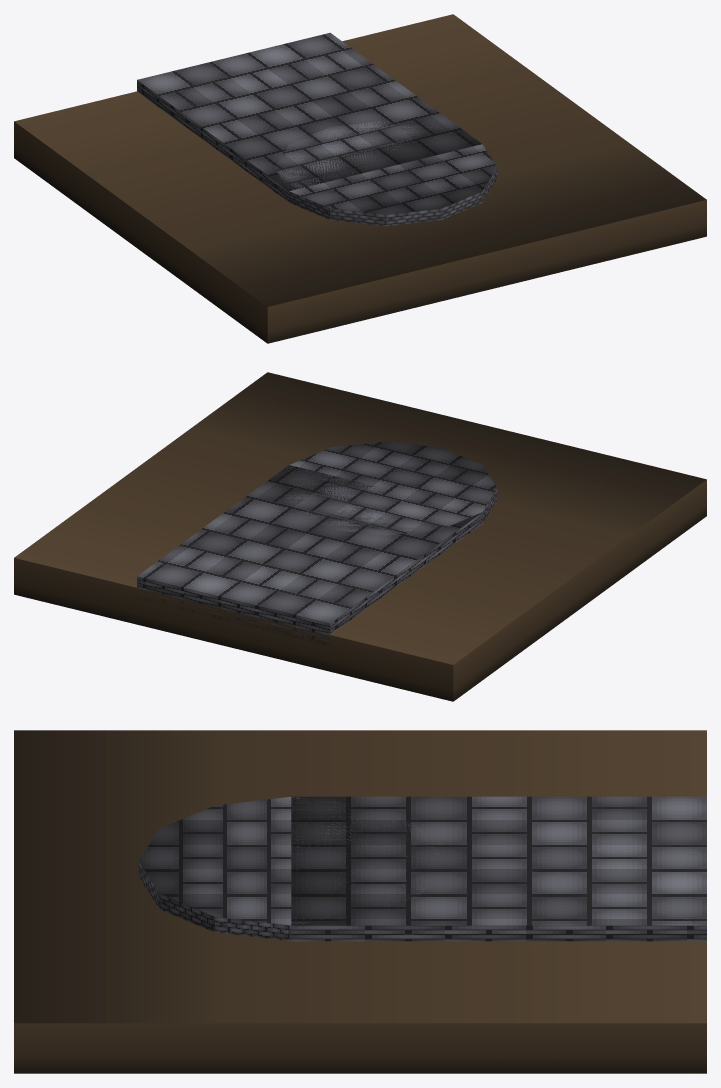
Rendered from path_end.gltf.
3 renders of one model, top to bottom at view 1: azimuth 30°, elevation 25°; view 2: azimuth 150°, elevation 25°; view 3: azimuth 270°, elevation 25°, orthographic. The views are drawn at different scales.
Parts seen in each view (by area): view 1: path_end; view 2: path_end; view 3: path_end.
Part boxes in pixels (x1=…): path_end: x1=14, y1=14, x2=706, y2=343; path_end: x1=14, y1=372, x2=706, y2=701; path_end: x1=14, y1=730, x2=706, y2=1073.
Size of the model in its own units: 1 by 0.105 by 1.
Materials: 1 (1 with a texture image).
